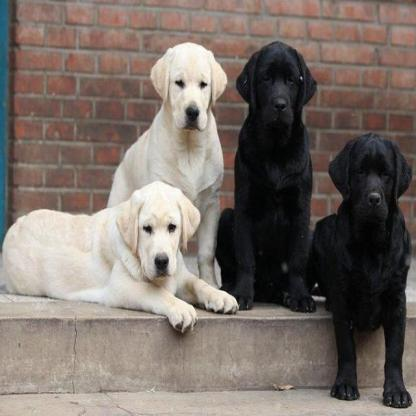Labarador Retriever: (0, 183, 238, 332), (98, 38, 226, 296), (310, 139, 416, 407), (221, 41, 318, 311)
